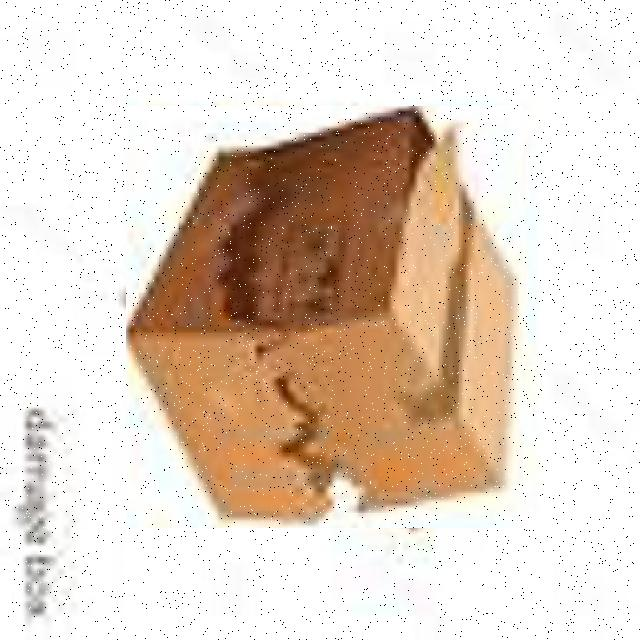defect: (126, 106, 523, 528)
